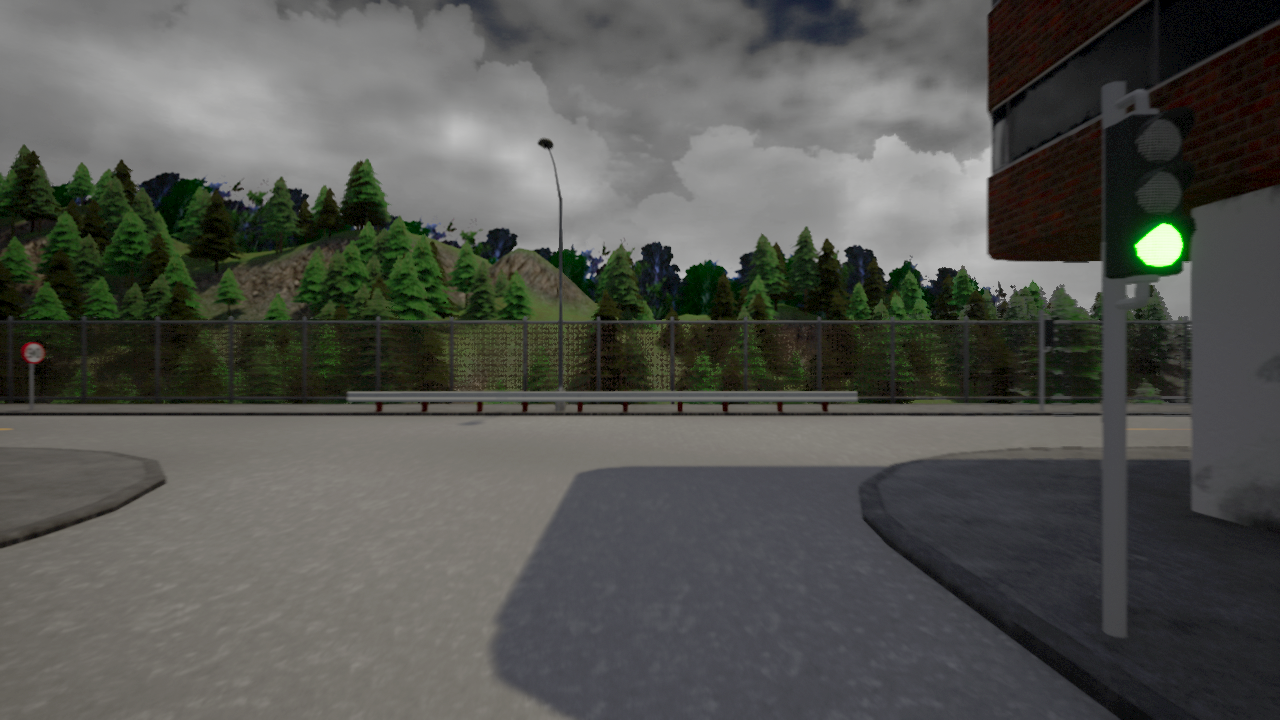green: (1099, 116, 1201, 284)
